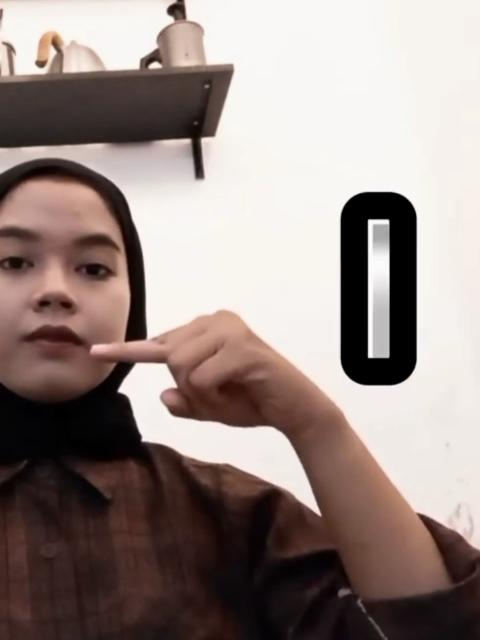G: (90, 305, 326, 435)
